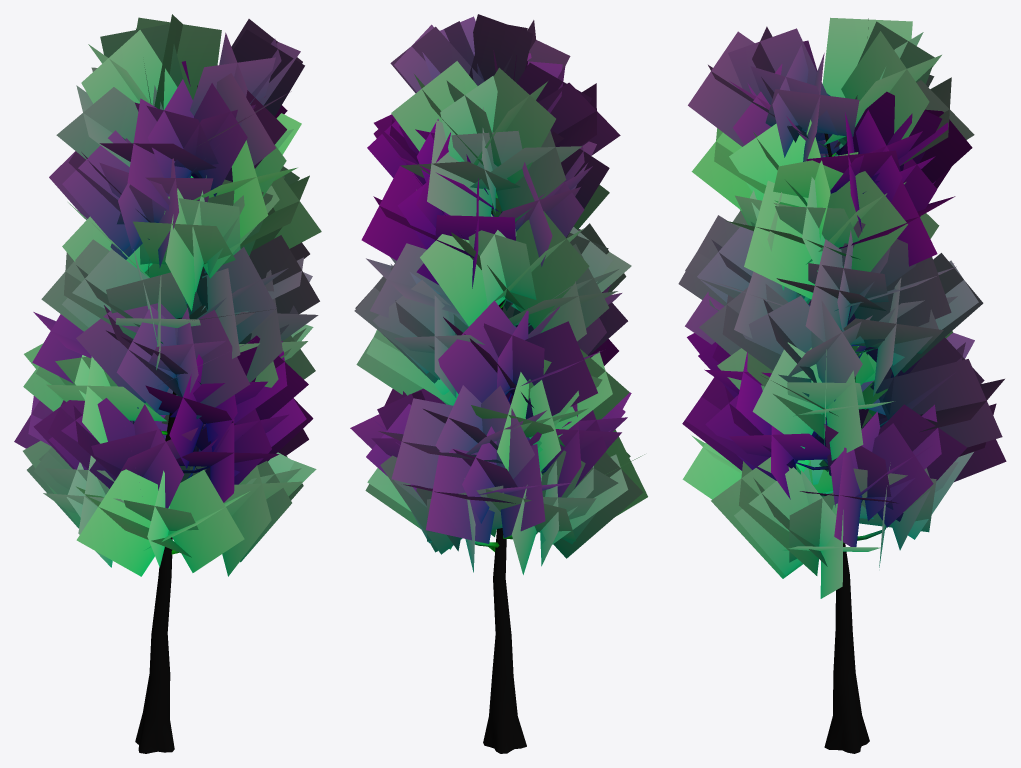
Rendered from Tree_5_4.fbx.
3 views of the same model, side by side, from view 1: azimuth 30°, elevation 25°; view 2: azimuth 150°, elevation 25°; view 3: azimuth 270°, elevation 25° (orthographic). The views are drawn at different scales.
Visible parts, largest first — view 1: _4; view 2: _4; view 3: _4.
Part boxes in pixels (box(x1,y1,x2,y2)): _4: box(14, 14, 321, 753); _4: box(350, 14, 647, 753); _4: box(678, 17, 1006, 753).
Size of the model in its own units: 965 by 2479 by 998.
